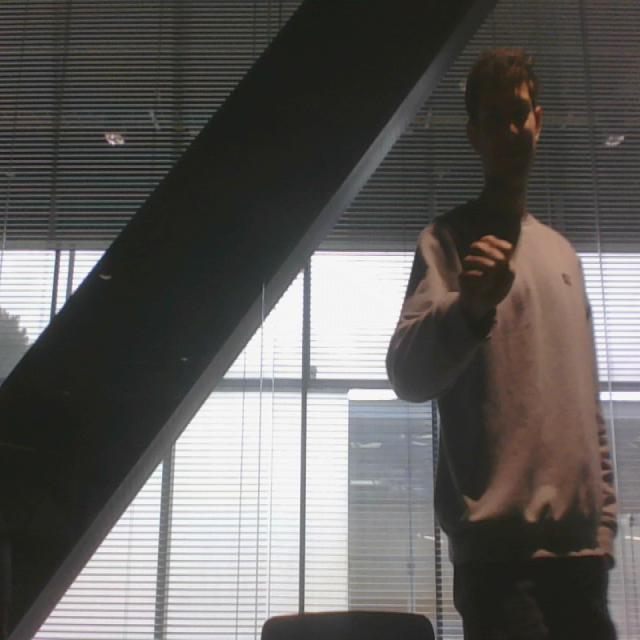stop: (458, 228, 522, 332)
